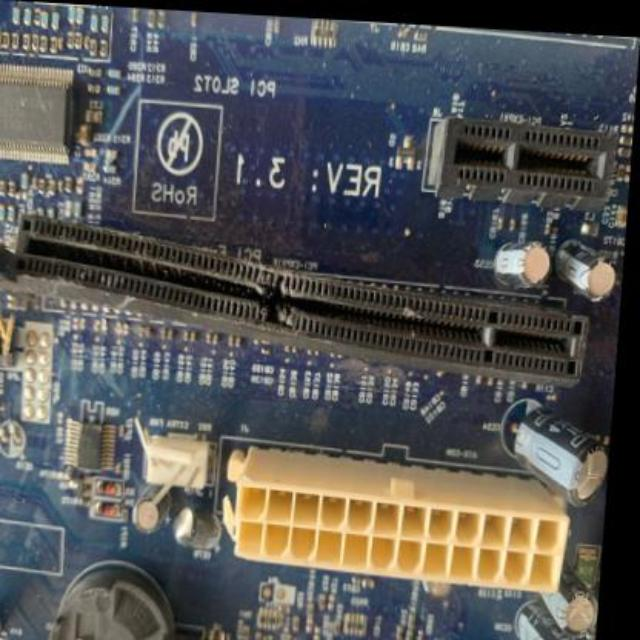PCB: (0, 6, 638, 640)
